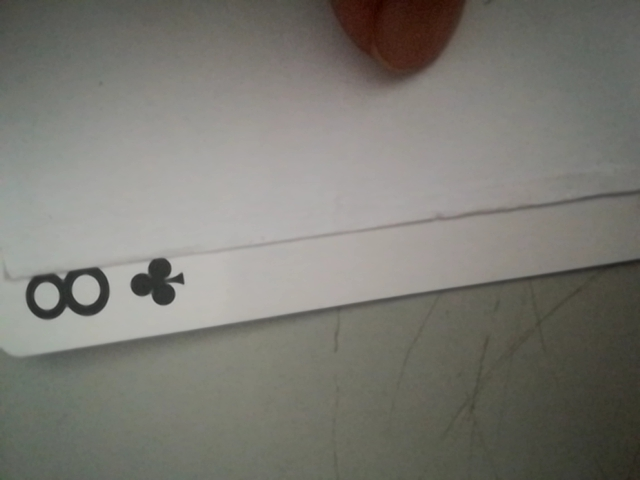mh 8: (2, 251, 199, 339)
